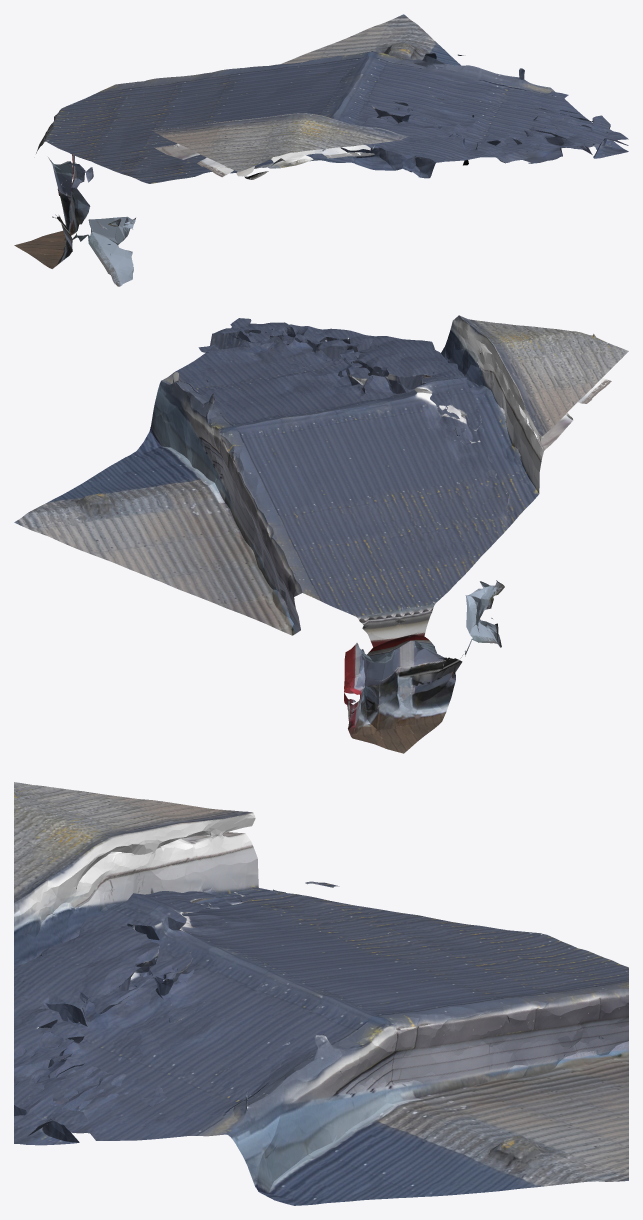
The picture shows the model from 3 angles, top to bottom: view 1: azimuth 30°, elevation 25°; view 2: azimuth 150°, elevation 25°; view 3: azimuth 270°, elevation 25°; orthographic projection. The views are drawn at different scales.
Bounding box in the file's own units: 8.36 × 5.05 × 8.36.
Materials: 4 (4 with a texture image).
